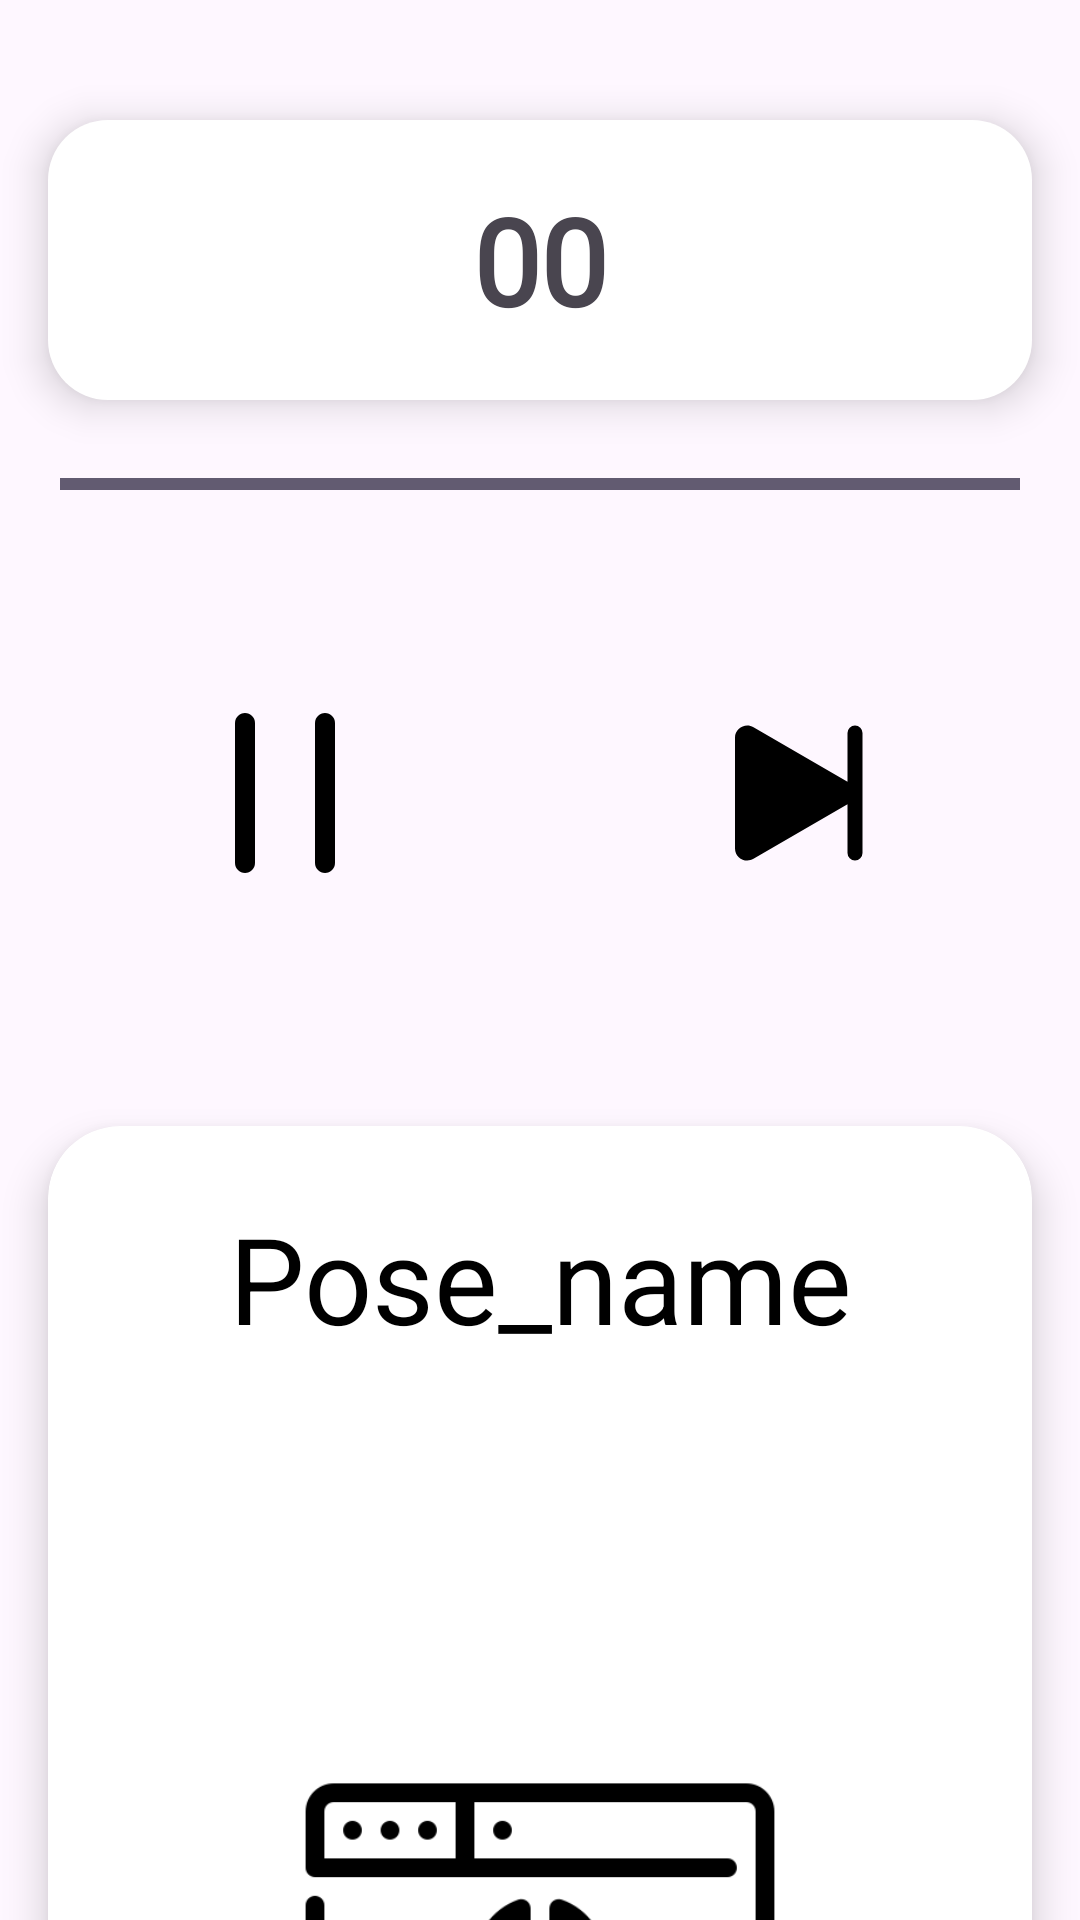

Named icons in this screenshot (1080px×1920px) and their bounding boxes, (x1, y1, x2, y2):
pause: (235, 713, 335, 873)
skip: (735, 725, 863, 861)
